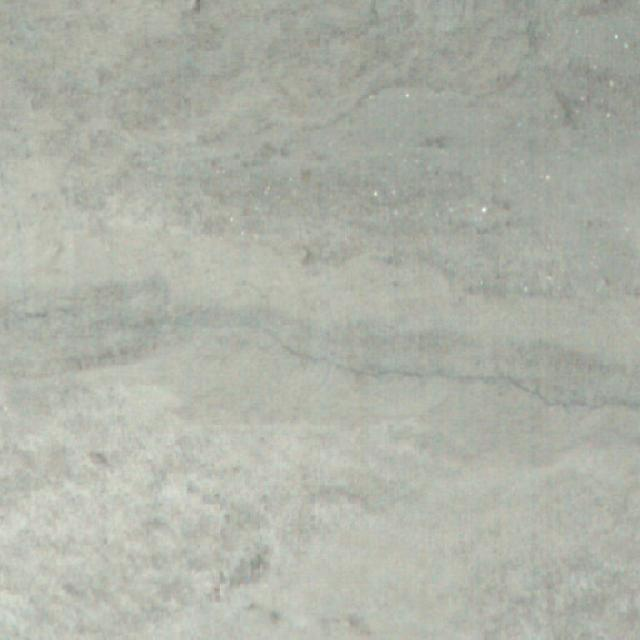Transverse: (0, 281, 640, 400)
